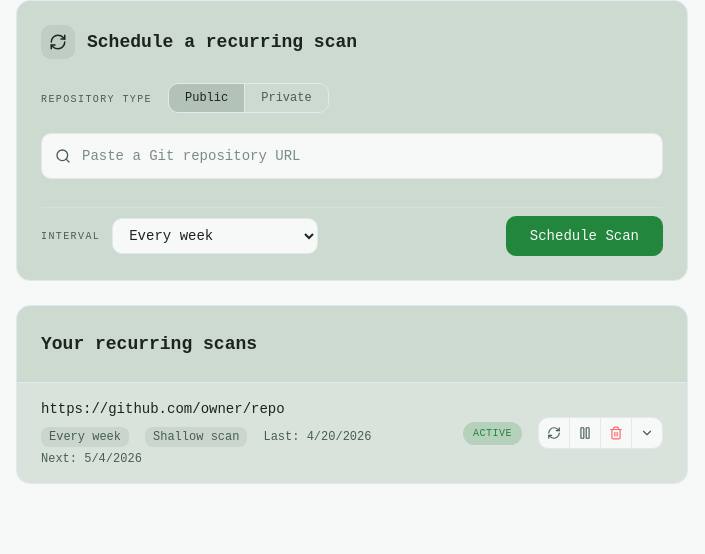
it: RecurringForm › shows 'No scans have run yet' when expanded with empty jobs
This screenshot has width=705, height=554.
Click the text "https://github.com/owner/repo": (163, 409) [41, 401, 285, 417]
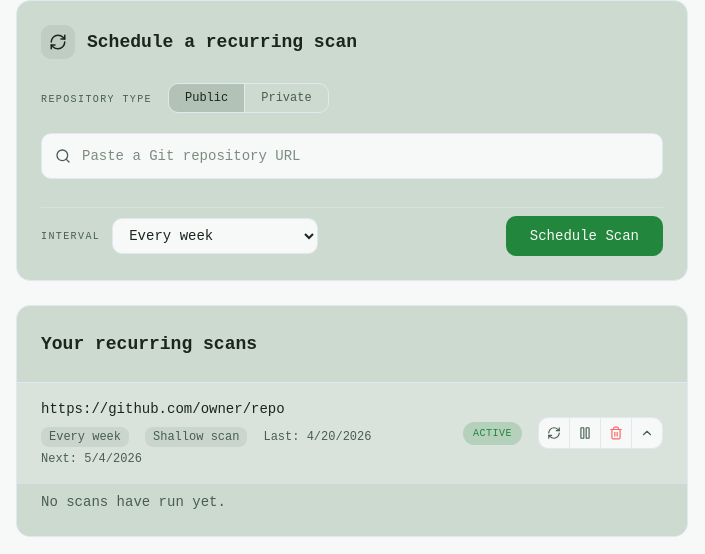
Expected: the text "No scans have run yet." is shown, [41, 494, 226, 510]
